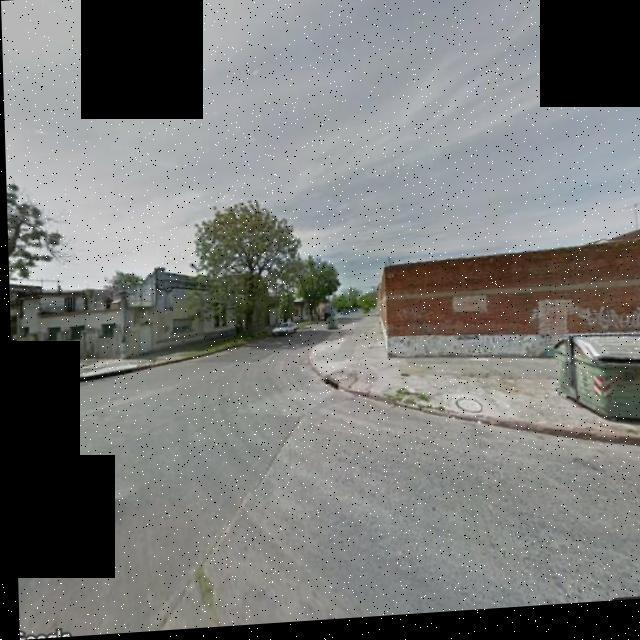bin: (540, 328, 640, 447)
